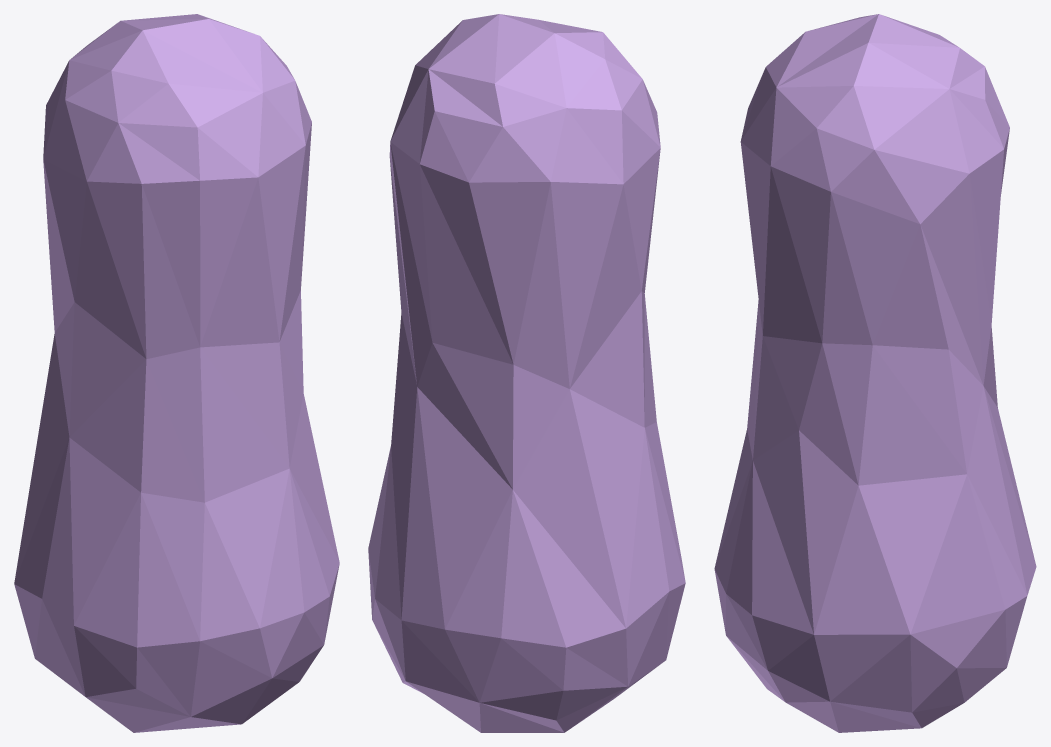
3 renders of one model, left to right at view 1: azimuth 30°, elevation 25°; view 2: azimuth 150°, elevation 25°; view 3: azimuth 270°, elevation 25°, orthographic.
Parts seen in each view (by area): view 1: th_proximal; view 2: th_proximal; view 3: th_proximal.
Part boxes in pixels (bbox=[...]): th_proximal: bbox=[14, 14, 339, 732]; th_proximal: bbox=[368, 14, 685, 732]; th_proximal: bbox=[714, 14, 1036, 732].
Size of the model in its own units: 25.74 by 26.13 by 61.57.
